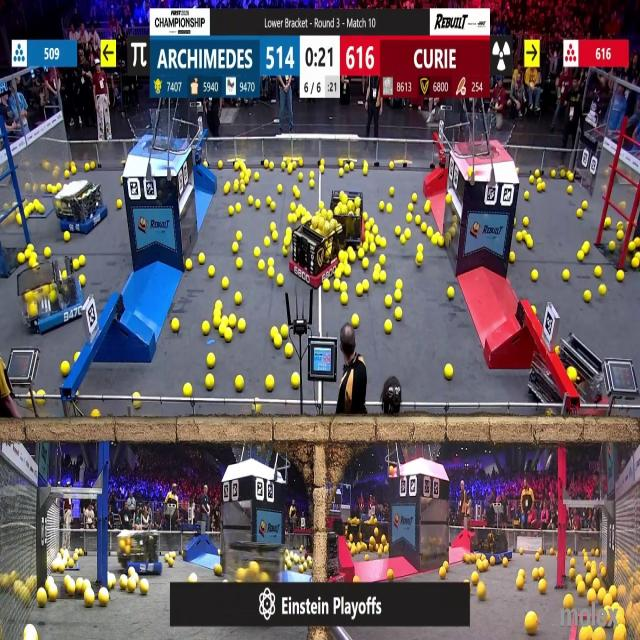ball_ground: (526, 614, 538, 636), (34, 587, 44, 606), (86, 591, 96, 608), (99, 591, 109, 607), (48, 587, 58, 602), (580, 628, 592, 640), (67, 581, 76, 596), (594, 629, 606, 640), (140, 582, 149, 596), (564, 595, 573, 609), (29, 254, 38, 268), (267, 376, 275, 391), (291, 374, 299, 389), (478, 585, 486, 600), (206, 376, 214, 390), (62, 360, 70, 374), (538, 580, 546, 594), (172, 318, 180, 332), (203, 320, 211, 334), (446, 364, 454, 378), (224, 327, 232, 341), (588, 590, 596, 604), (237, 377, 244, 392), (184, 383, 192, 396), (207, 354, 215, 367), (238, 319, 246, 332), (385, 320, 393, 333), (284, 345, 292, 358), (515, 577, 523, 590), (129, 581, 137, 594), (108, 574, 115, 588), (394, 309, 402, 321), (281, 325, 289, 337), (470, 571, 478, 583), (274, 337, 282, 349), (341, 292, 349, 304), (16, 252, 24, 264), (334, 280, 342, 292), (576, 584, 584, 596), (352, 314, 359, 327), (119, 576, 126, 589), (618, 271, 626, 282), (394, 290, 402, 301), (214, 564, 222, 575), (230, 316, 238, 327), (378, 237, 386, 248), (628, 242, 636, 253), (236, 292, 243, 304), (563, 270, 570, 282), (208, 266, 215, 278), (386, 295, 393, 307), (380, 272, 387, 284), (237, 259, 244, 271), (371, 272, 378, 284), (213, 315, 220, 327), (221, 315, 228, 327), (463, 554, 471, 564), (188, 573, 196, 583), (221, 278, 228, 289), (185, 261, 192, 272), (323, 281, 330, 292), (585, 290, 592, 301), (608, 241, 615, 252), (526, 238, 533, 249), (78, 255, 85, 266), (632, 257, 639, 268), (362, 281, 369, 292), (349, 251, 356, 262), (340, 250, 347, 261), (593, 577, 600, 588), (448, 286, 454, 298), (278, 275, 284, 287), (223, 182, 229, 194), (532, 568, 538, 580), (599, 285, 606, 295), (595, 268, 602, 278), (199, 253, 206, 263), (258, 262, 265, 272), (618, 232, 625, 242), (219, 325, 226, 335), (507, 252, 514, 262), (336, 270, 343, 280), (363, 232, 370, 242), (25, 208, 32, 218), (475, 560, 482, 570), (388, 568, 394, 579), (532, 271, 538, 282), (441, 567, 447, 578), (417, 253, 423, 264), (362, 257, 368, 268), (356, 284, 362, 295), (272, 326, 278, 337), (584, 242, 590, 253), (345, 267, 351, 278), (214, 302, 222, 310), (395, 280, 402, 289), (93, 411, 100, 420), (420, 223, 427, 232), (253, 405, 260, 414), (388, 186, 395, 195), (37, 205, 44, 214), (380, 202, 386, 212), (524, 216, 530, 226), (395, 225, 401, 235), (44, 248, 50, 258), (237, 232, 243, 242), (577, 251, 583, 261), (269, 268, 275, 278), (538, 567, 544, 577), (79, 276, 85, 286), (233, 243, 239, 253), (369, 243, 375, 253), (254, 200, 260, 210), (342, 282, 348, 292), (424, 204, 430, 214), (407, 213, 413, 223), (517, 233, 523, 243), (406, 229, 412, 239), (439, 238, 445, 248), (236, 204, 242, 214), (427, 228, 433, 238), (432, 237, 438, 247), (604, 217, 610, 227), (73, 261, 79, 271), (15, 215, 21, 225), (522, 232, 528, 242), (284, 238, 290, 247), (227, 207, 233, 216), (287, 214, 293, 223), (269, 257, 275, 266), (518, 568, 524, 577), (65, 232, 70, 242), (381, 254, 386, 264), (254, 248, 259, 258), (308, 182, 313, 192), (116, 200, 121, 210), (413, 192, 418, 202), (363, 242, 368, 252), (235, 182, 240, 192), (295, 206, 300, 216), (524, 190, 530, 198), (583, 202, 589, 210), (362, 168, 368, 176), (290, 204, 296, 212), (248, 198, 254, 206), (129, 568, 135, 576), (536, 183, 542, 191), (568, 568, 574, 576), (271, 222, 277, 230), (276, 184, 282, 192), (371, 225, 377, 233), (28, 244, 34, 252), (490, 557, 496, 565), (362, 212, 368, 220), (483, 562, 489, 570), (235, 164, 241, 172), (242, 176, 248, 184), (560, 170, 566, 178), (33, 632, 39, 640), (46, 184, 52, 192), (37, 388, 43, 396), (350, 164, 356, 172), (266, 238, 271, 247), (283, 247, 288, 256), (576, 209, 581, 218), (273, 233, 278, 242), (502, 558, 507, 567), (567, 185, 572, 194), (387, 204, 392, 213), (409, 204, 414, 213), (74, 352, 79, 361), (358, 249, 363, 258), (447, 194, 452, 203), (635, 240, 639, 251), (353, 575, 359, 582), (134, 400, 140, 407), (534, 171, 540, 178), (443, 561, 449, 568), (134, 391, 140, 398), (535, 177, 541, 184), (241, 184, 246, 192), (169, 558, 174, 566), (340, 169, 345, 177), (552, 170, 557, 178), (254, 173, 259, 181), (535, 554, 540, 562), (387, 161, 392, 169), (319, 202, 324, 210), (294, 189, 299, 197), (65, 171, 70, 179), (568, 173, 573, 181), (92, 162, 97, 170), (286, 227, 291, 235), (311, 172, 316, 180), (281, 164, 286, 172), (265, 162, 270, 170), (364, 222, 369, 230), (384, 544, 389, 552), (416, 215, 420, 224), (272, 203, 276, 212), (268, 198, 272, 207), (165, 556, 171, 562), (570, 560, 575, 567), (418, 245, 423, 252), (287, 167, 292, 174), (376, 265, 381, 272), (171, 553, 176, 560), (218, 162, 222, 170), (298, 174, 302, 182), (400, 237, 404, 245), (72, 168, 76, 176), (532, 306, 536, 314), (58, 183, 62, 191), (368, 217, 372, 225), (204, 162, 208, 170), (568, 550, 572, 558), (298, 160, 302, 168), (340, 160, 344, 168), (530, 176, 534, 183), (320, 168, 324, 175), (551, 550, 555, 557), (364, 555, 368, 562), (119, 177, 123, 184), (85, 163, 88, 171), (520, 547, 524, 553), (217, 550, 221, 556), (122, 180, 125, 187)
goal: (461, 118, 516, 158), (128, 115, 186, 152)
robot_blue: (19, 264, 82, 333), (56, 180, 106, 237), (328, 192, 365, 247), (122, 531, 163, 574), (473, 527, 513, 562)
robot_red: (290, 213, 342, 287)
